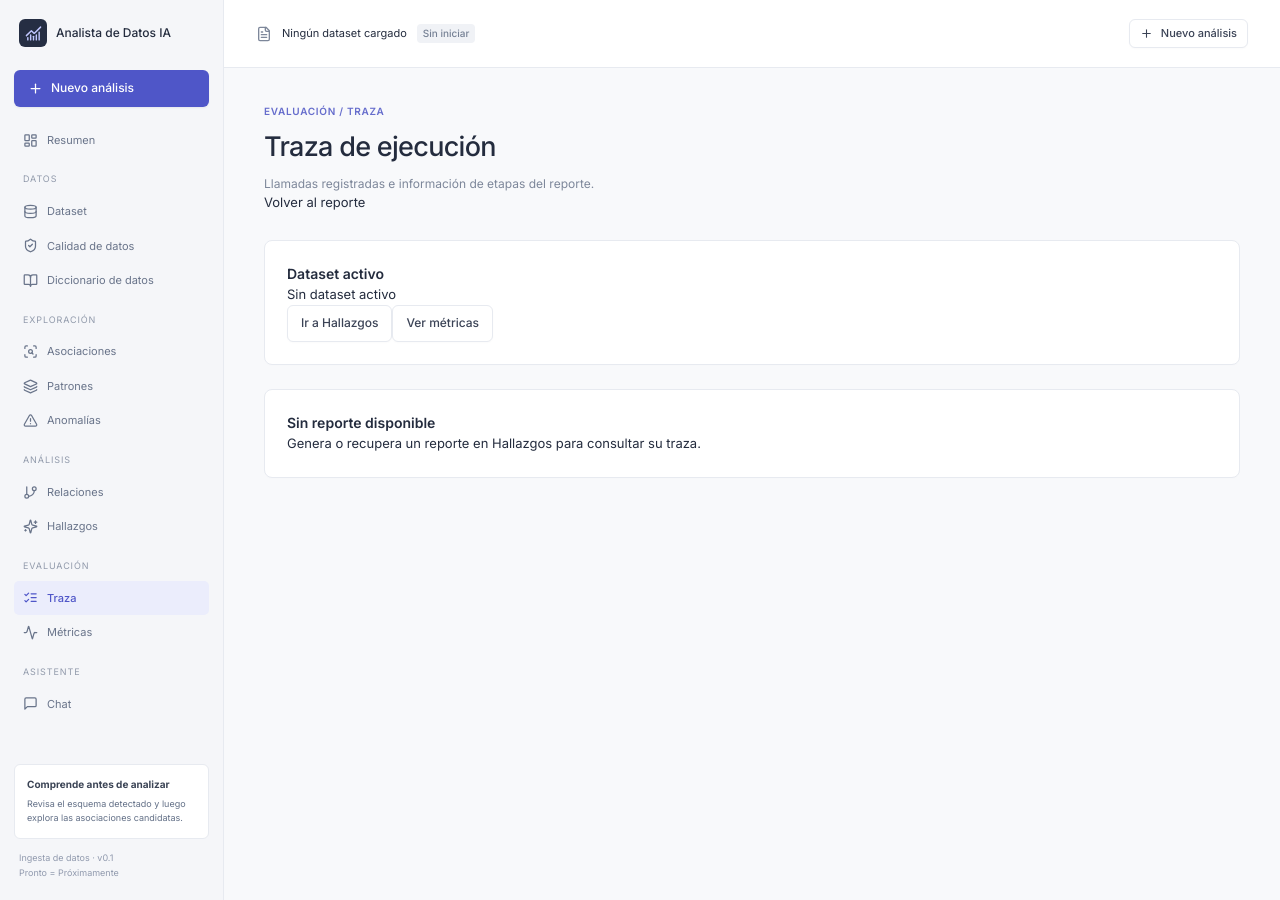
Test: historical empty trace does not manufacture stage events
Click the link "Hallazgos".
click(60, 527)  # box [23,519,98,534]
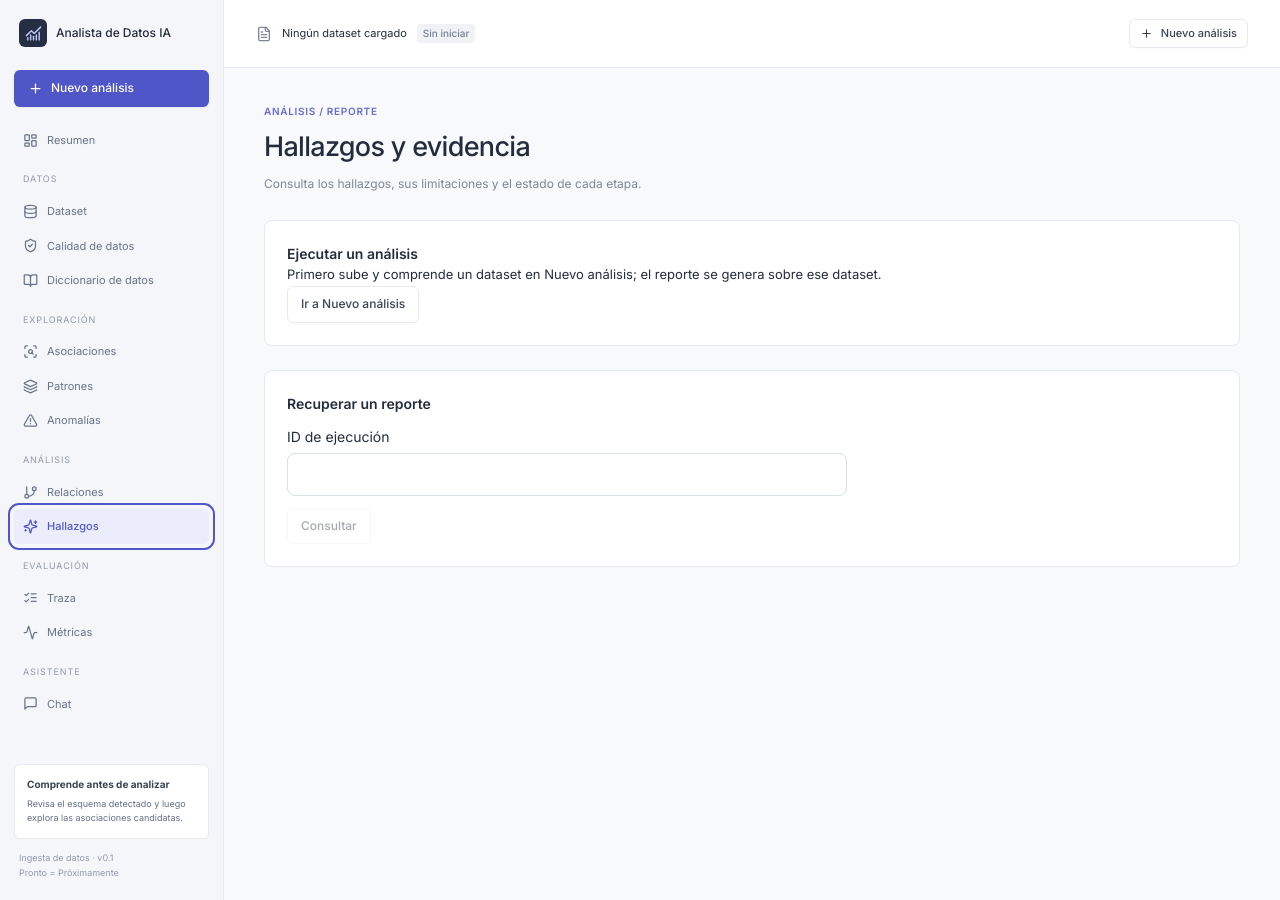
Type "trace-run" into the field labelled "ID de ejecución".
click(567, 474); type("trace-run")  # box [287,453,847,496]
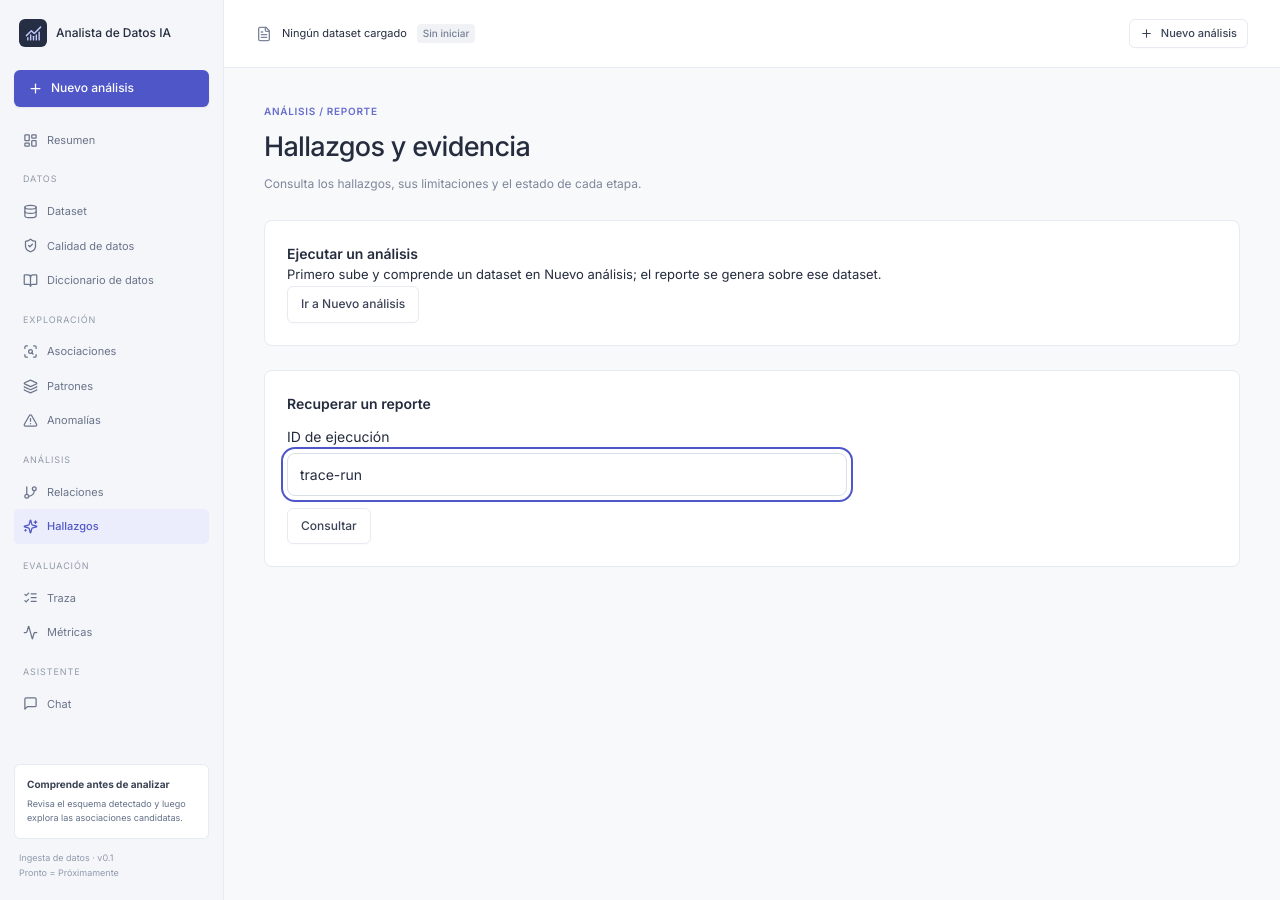
Click the button "Consultar".
click(329, 526)  # box [287,508,371,544]
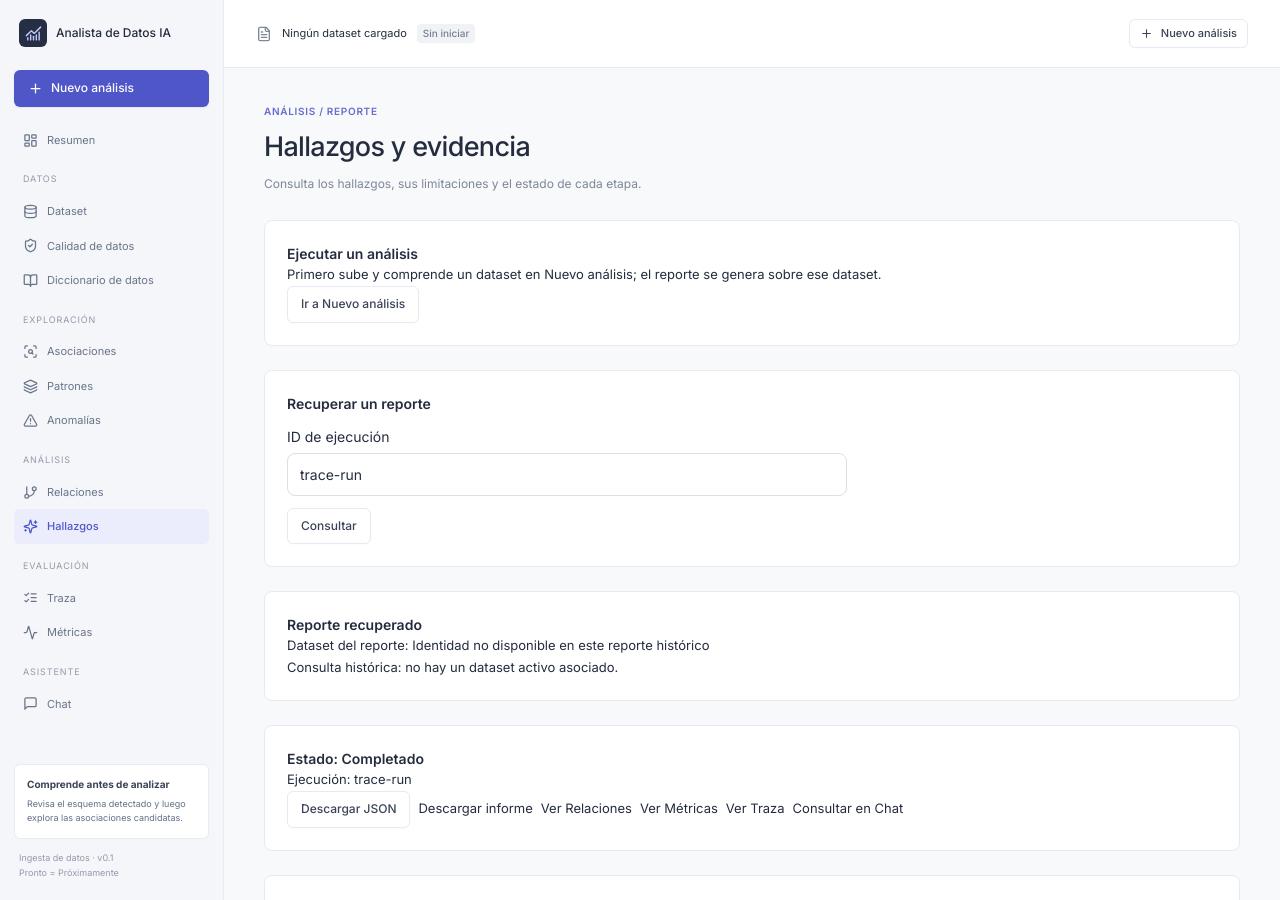
Click the link "Traza".
click(50, 598)  # box [23,590,76,605]
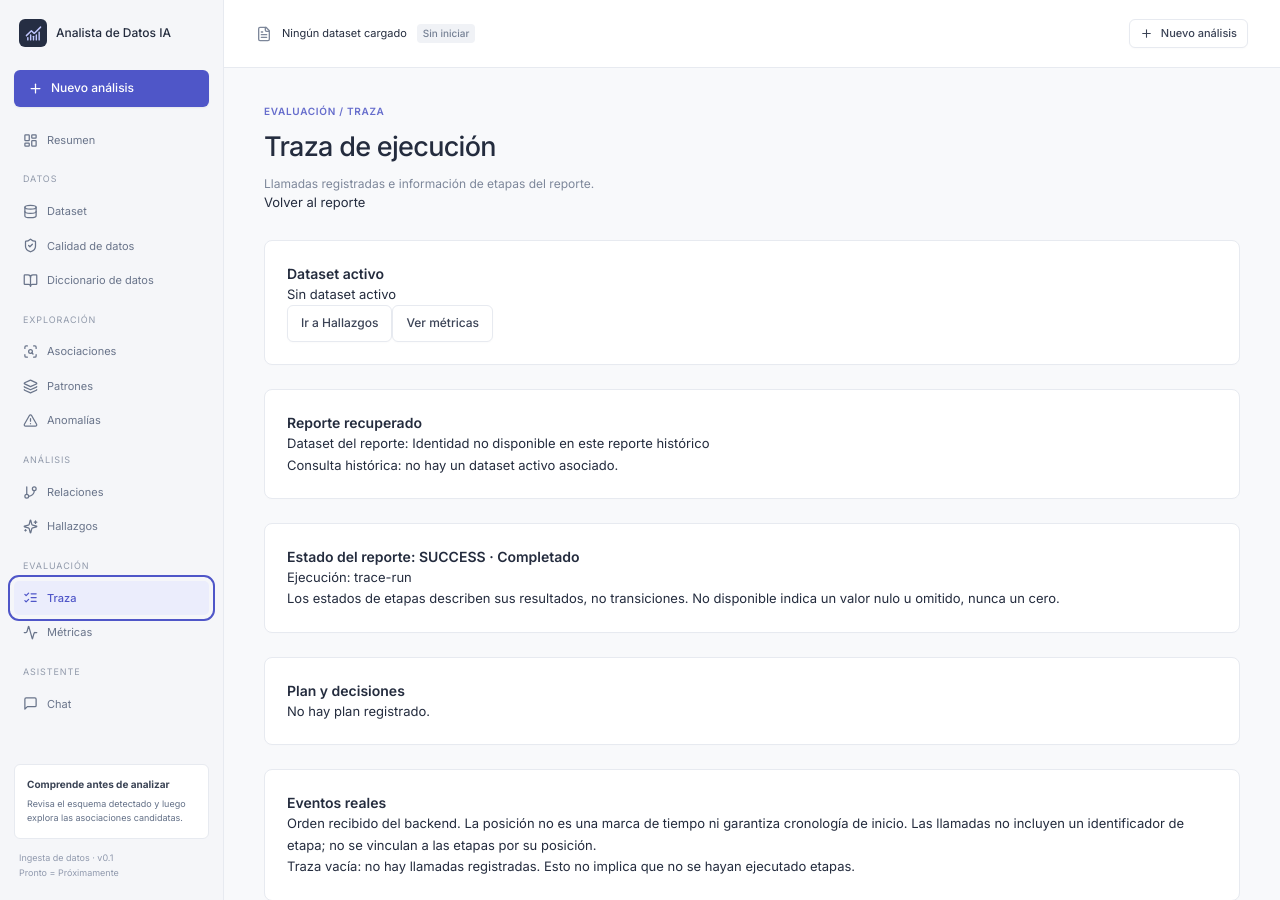
Check: the text "Dataset del reporte: Identidad no disponible" is shown, box [287,435,709,451]
Check: the text "Traza vacía" is shown, box [287,858,855,874]
